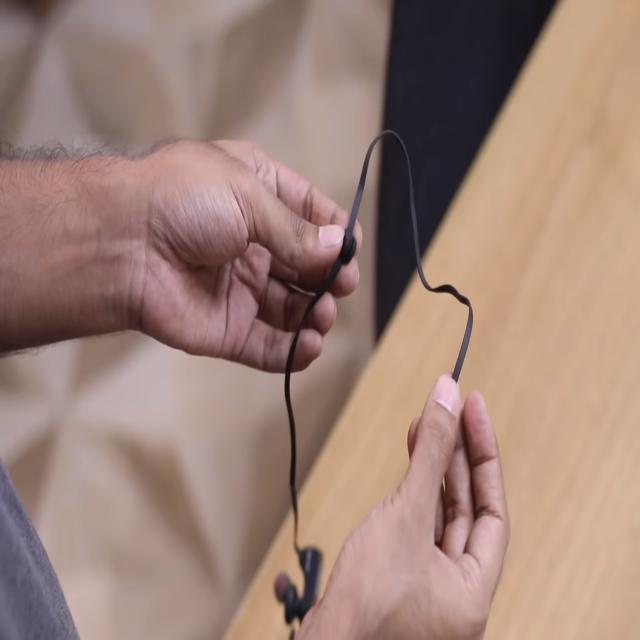Neckband: (272, 126, 474, 640)
